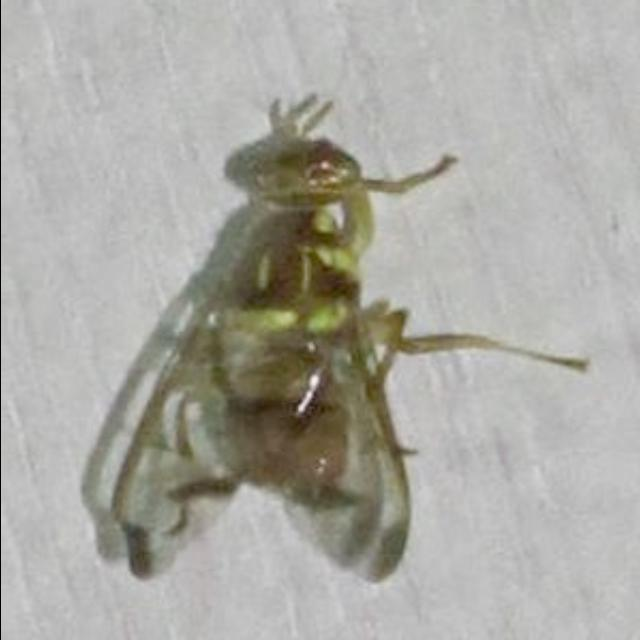melon fly: (85, 99, 605, 585)
